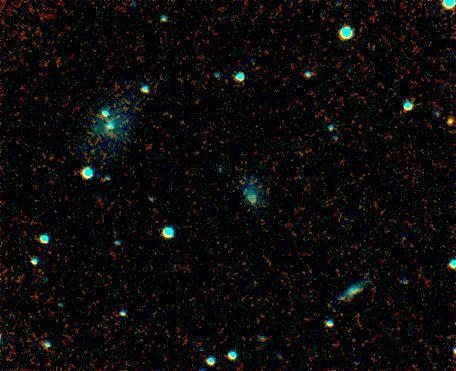star: (433, 107, 456, 137)
